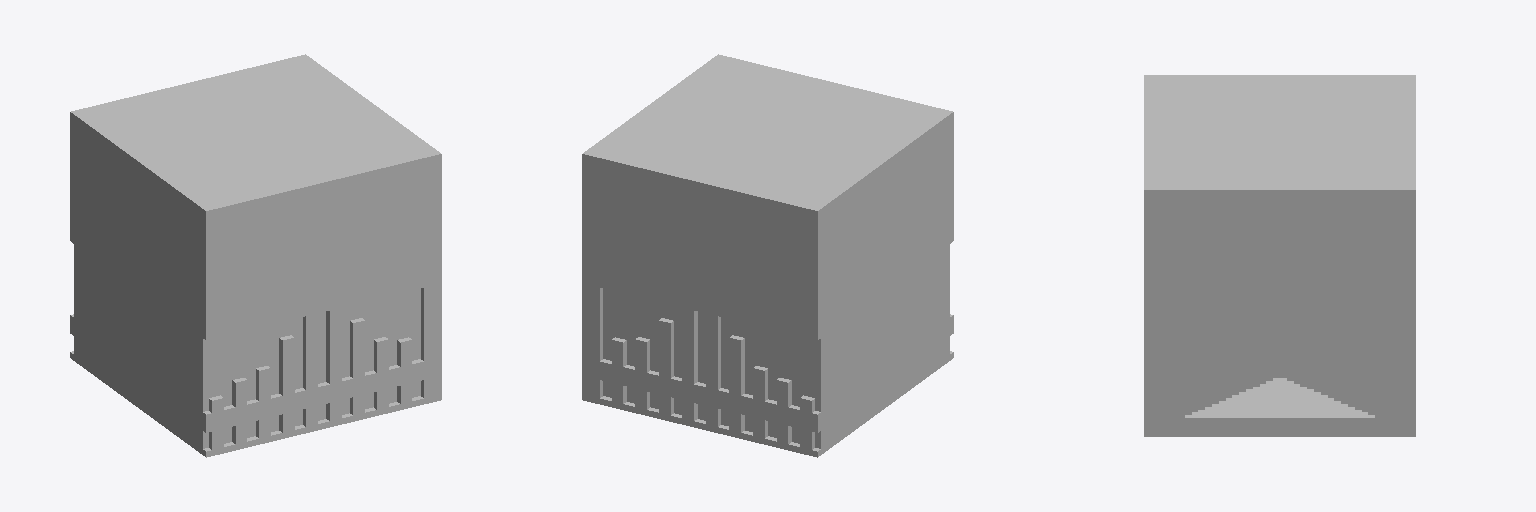
File: Factory Bits-5-ProcessorOut.obj
3 views of the same model, side by side, from view 1: azimuth 30°, elevation 25°; view 2: azimuth 150°, elevation 25°; view 3: azimuth 270°, elevation 25° (orthographic).
Visible parts, largest first — view 1: ProcessorOut; view 2: ProcessorOut; view 3: ProcessorOut.
Part boxes in pixels (x1,y1,x2,y2): ProcessorOut: (70, 54, 441, 457); ProcessorOut: (582, 54, 953, 457); ProcessorOut: (1144, 75, 1415, 436).
Bounding box in the file's own units: 4 × 4 × 4.